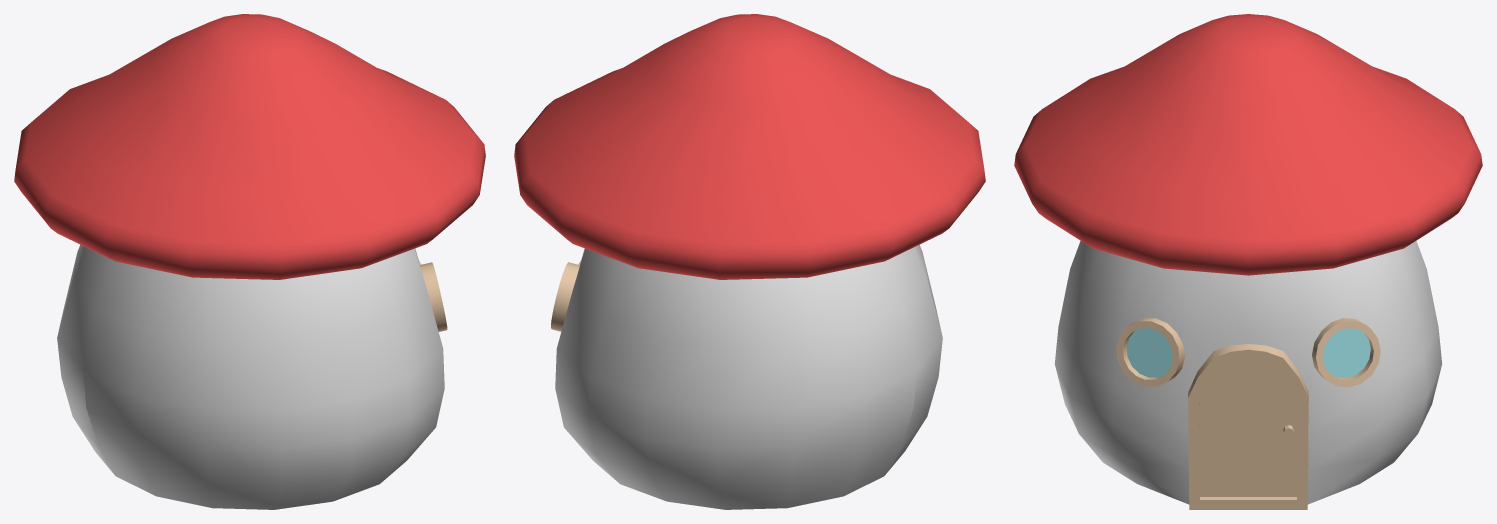
File: Mushroomhouse_small(1).fbx
3 views of the same model, side by side, from view 1: azimuth 30°, elevation 25°; view 2: azimuth 150°, elevation 25°; view 3: azimuth 270°, elevation 25° (orthographic).
Visible parts, largest first — view 1: Window; view 2: Window; view 3: Window.
Part boxes in pixels (left/top/right/bottom): Window: left=14, top=14, right=485, bottom=509; Window: left=514, top=14, right=985, bottom=509; Window: left=1014, top=14, right=1482, bottom=509.
Bounding box in the file's own units: 1161 × 1120 × 1165.
